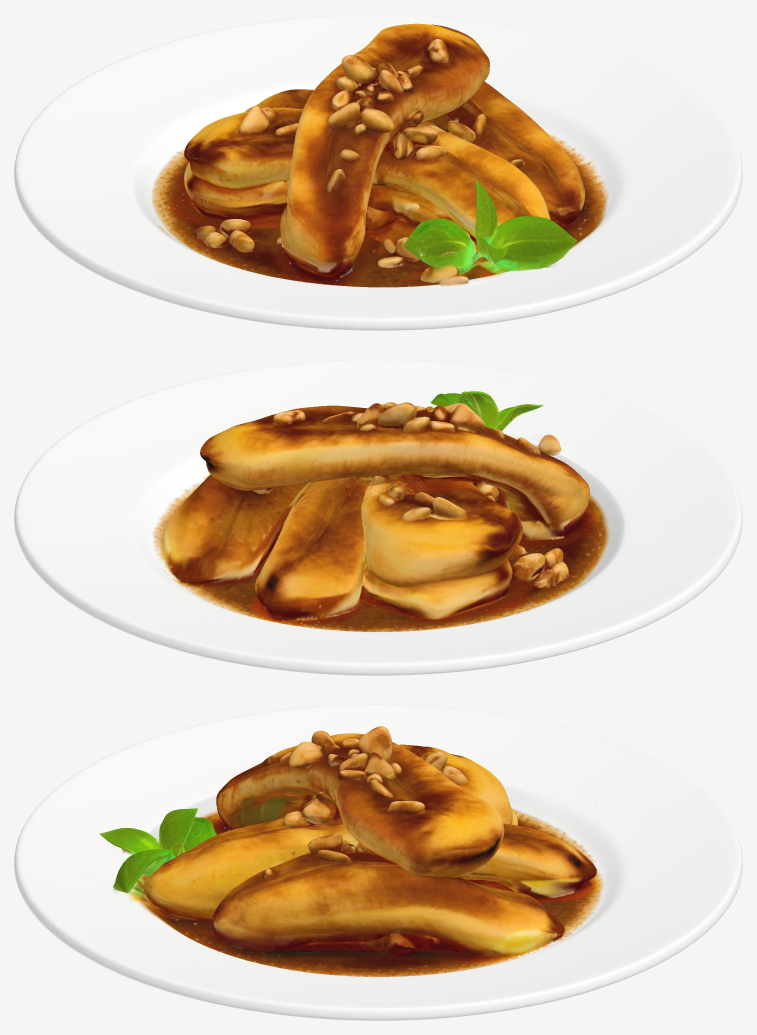
File: Meshy_AI_bananes_flambees_0722035930_image-to-3d-texture-v1.glb
The picture shows the model from 3 angles, top to bottom: view 1: azimuth 30°, elevation 25°; view 2: azimuth 150°, elevation 25°; view 3: azimuth 270°, elevation 25°; orthographic projection.
Bounding box in the file's own units: 1.9 × 0.4839 × 1.9.
Materials: 1 (1 with a texture image).
